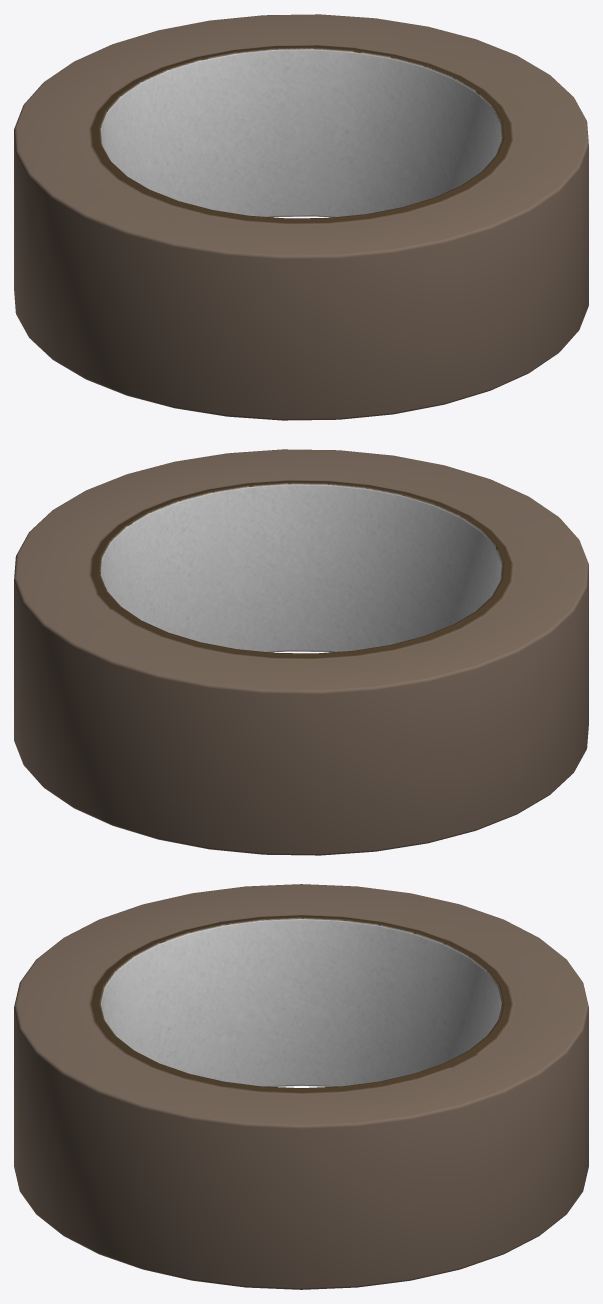
3 renders of one model, top to bottom at view 1: azimuth 30°, elevation 25°; view 2: azimuth 150°, elevation 25°; view 3: azimuth 270°, elevation 25°, orthographic.
Parts seen in each view (by area): view 1: SM_brown_tape; view 2: SM_brown_tape; view 3: SM_brown_tape.
Part boxes in pixels (x1,y1,x2,y2): SM_brown_tape: [14, 14, 588, 420]; SM_brown_tape: [14, 449, 588, 855]; SM_brown_tape: [14, 884, 588, 1289].
Bounding box in the file's own units: 4.99 × 1.61 × 4.99.
1 material, 1 textured.
